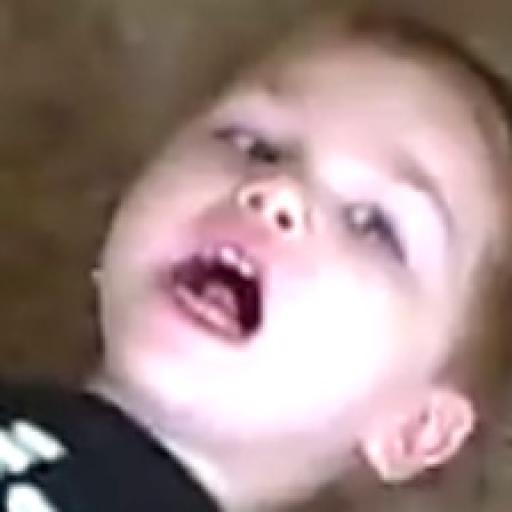Autism: (128, 22, 505, 498)
